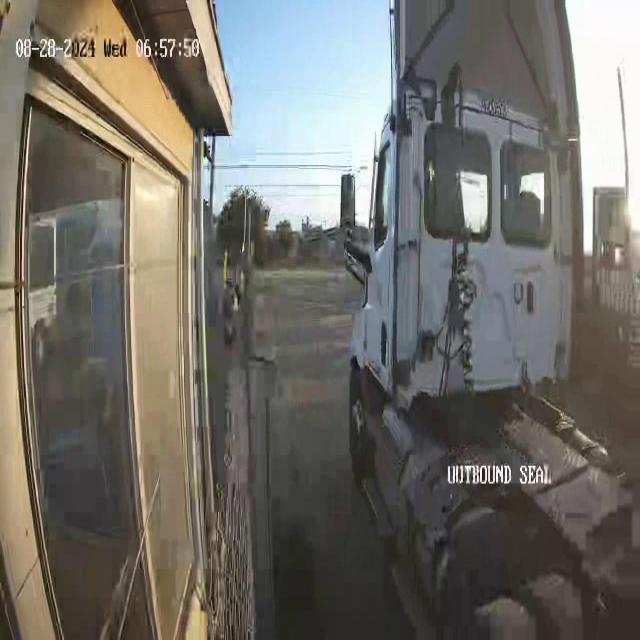TRUCK_OUT: (335, 3, 640, 640)
